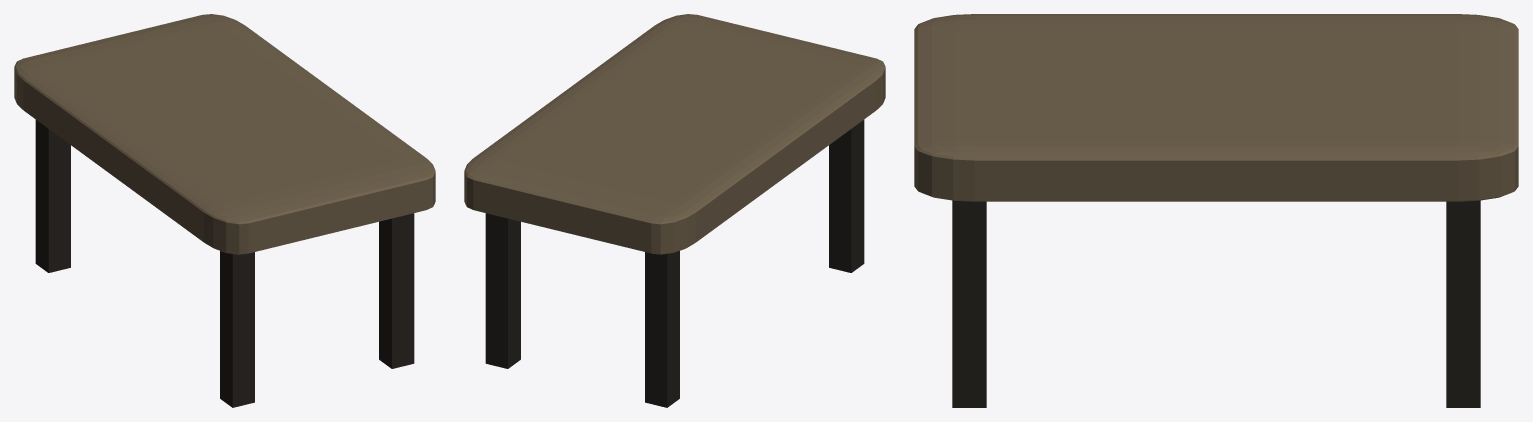
File: Office Desk.fbx
3 views of the same model, side by side, from view 1: azimuth 30°, elevation 25°; view 2: azimuth 150°, elevation 25°; view 3: azimuth 270°, elevation 25° (orthographic). The views are drawn at different scales.
Parts seen in each view (by area): view 1: Office Desk; view 2: Office Desk; view 3: Office Desk.
Part boxes in pixels (x1,y1,x2,y2): Office Desk: (14,14,435,407); Office Desk: (464,14,885,407); Office Desk: (914,14,1518,407).
Size of the model in its own units: 200 by 170 by 351.
